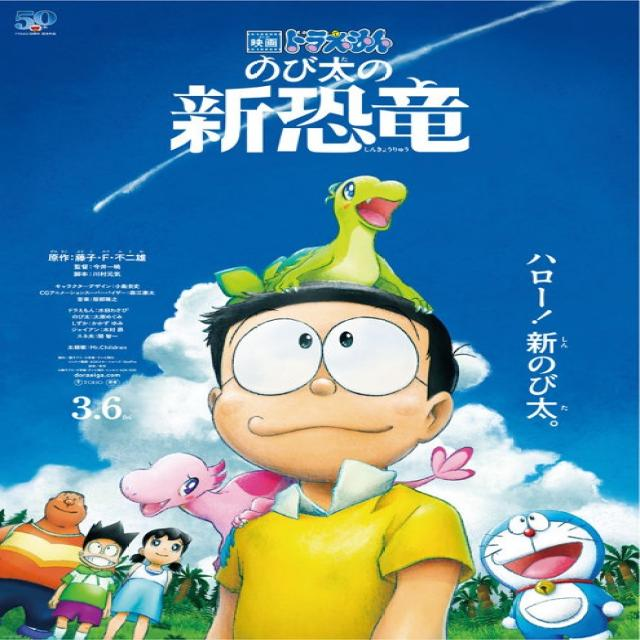doraemon: (474, 506, 622, 622)
jaian: (32, 488, 88, 542)
nobita: (173, 284, 477, 542)
shizuka: (132, 525, 199, 577)
suneo: (78, 517, 134, 579)
